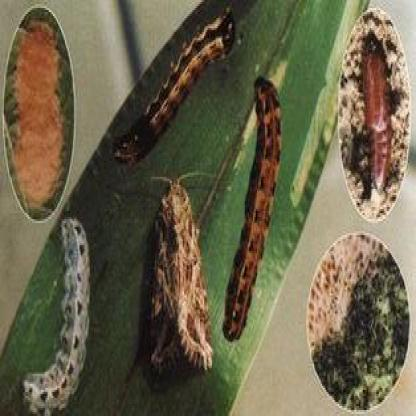armyworm: (100, 0, 250, 199), (221, 72, 281, 340), (16, 217, 96, 416), (141, 173, 219, 376), (12, 11, 67, 214), (355, 28, 396, 201)
